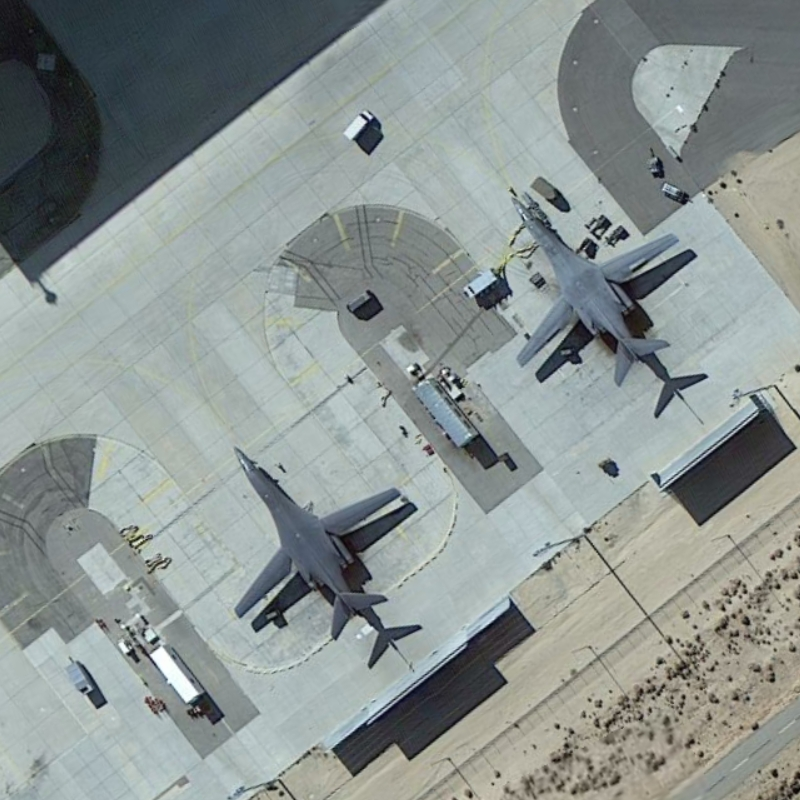A10: (221, 433, 413, 649), (505, 186, 688, 392)
